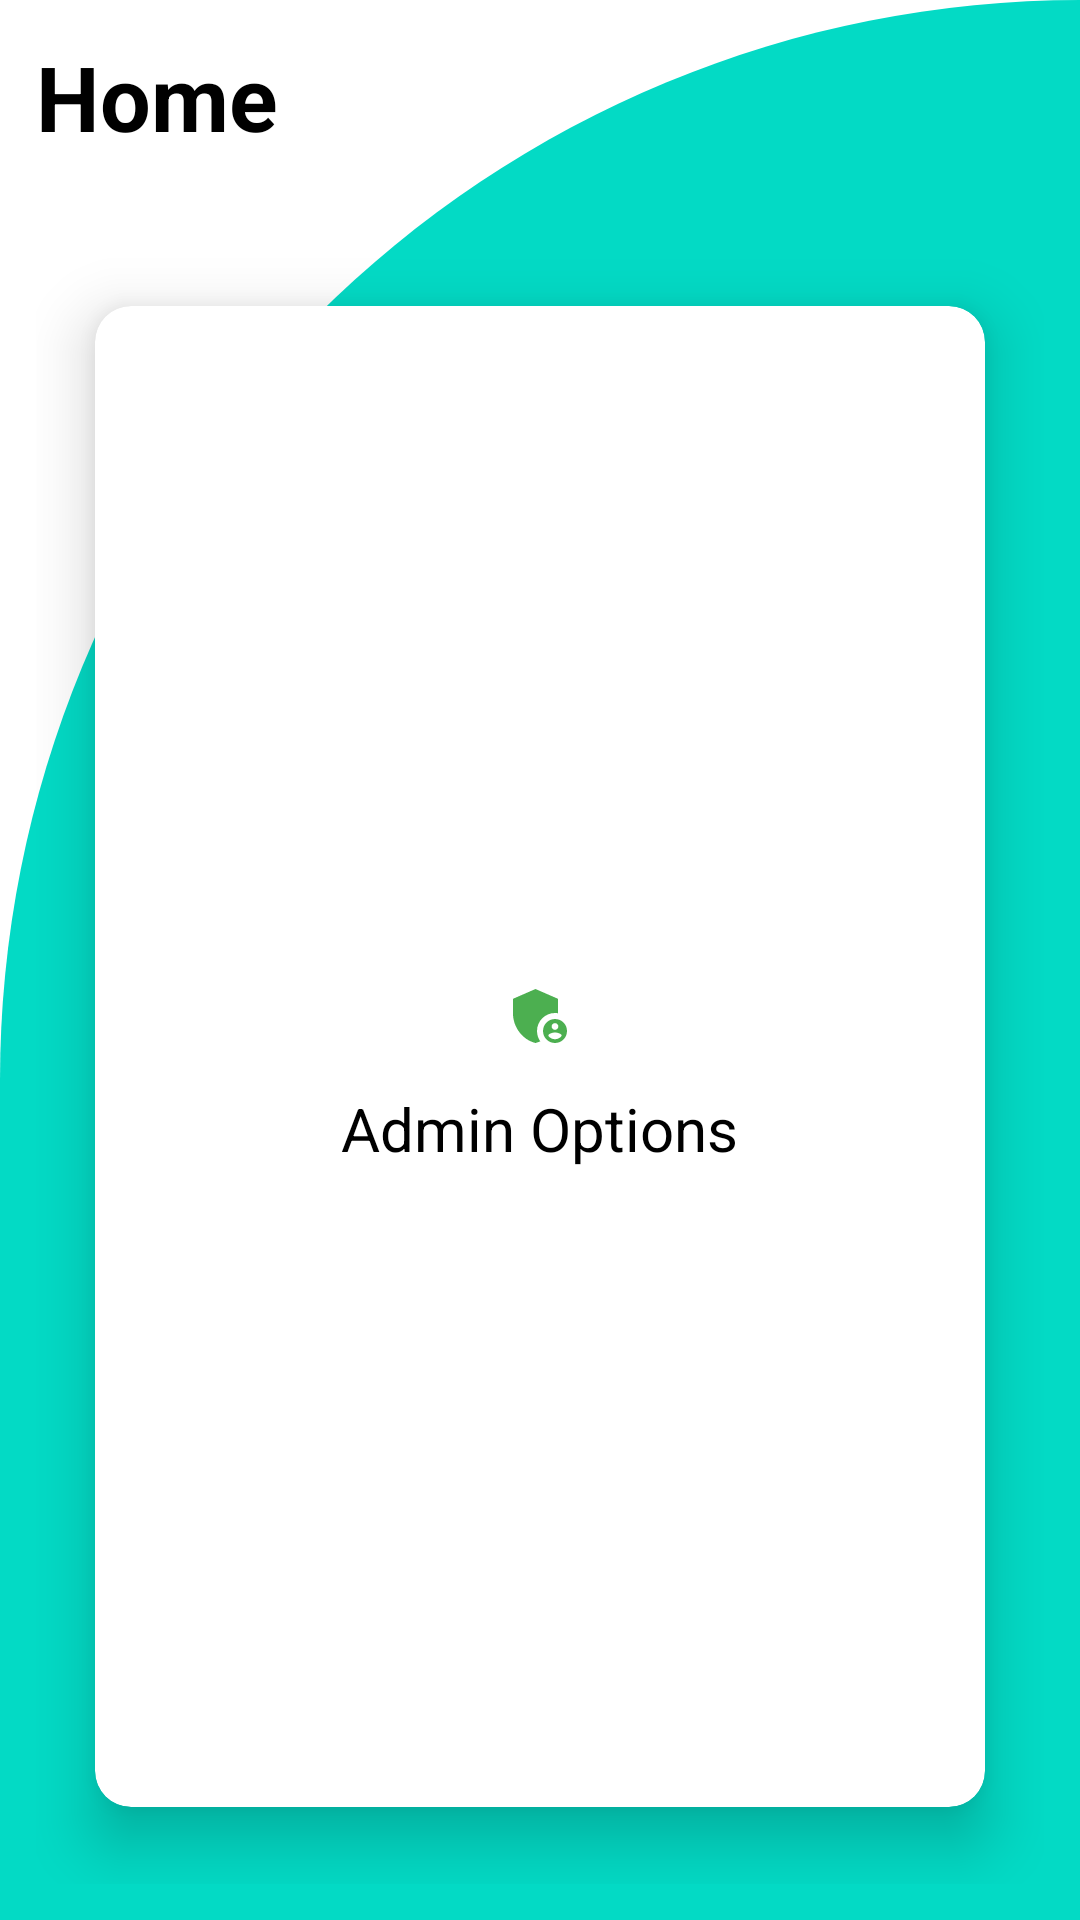

Locate icon controls on the screen. Image size 1080 x 1920, boxes as (x1, y1, x2, y2).
admin panel settings: (513, 989, 567, 1043)
